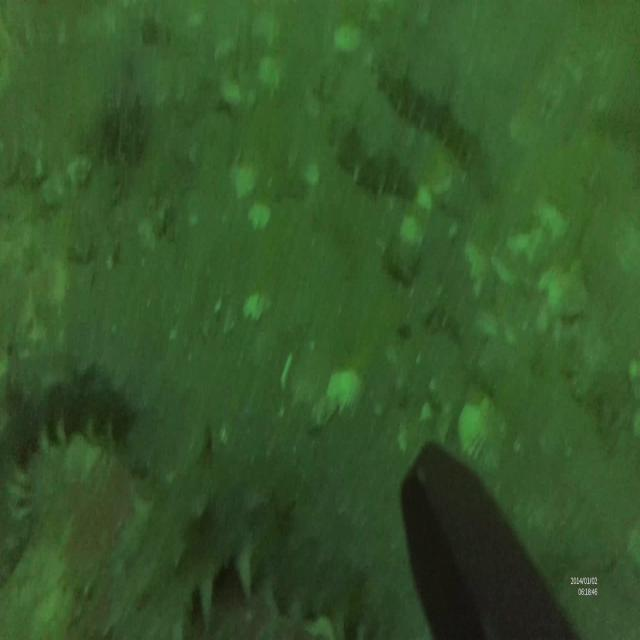holothurian: (106, 422, 368, 640), (0, 368, 136, 577), (378, 59, 492, 171), (331, 103, 418, 204)
scallop: (458, 390, 508, 472)
